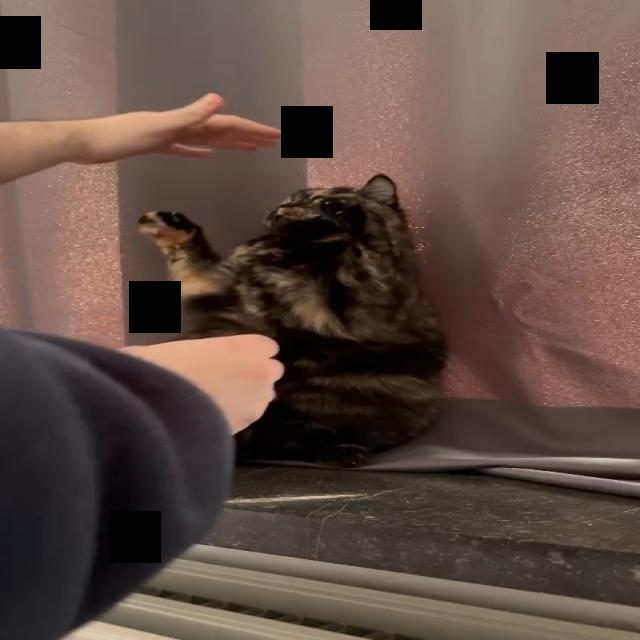authorized: (135, 172, 449, 469)
